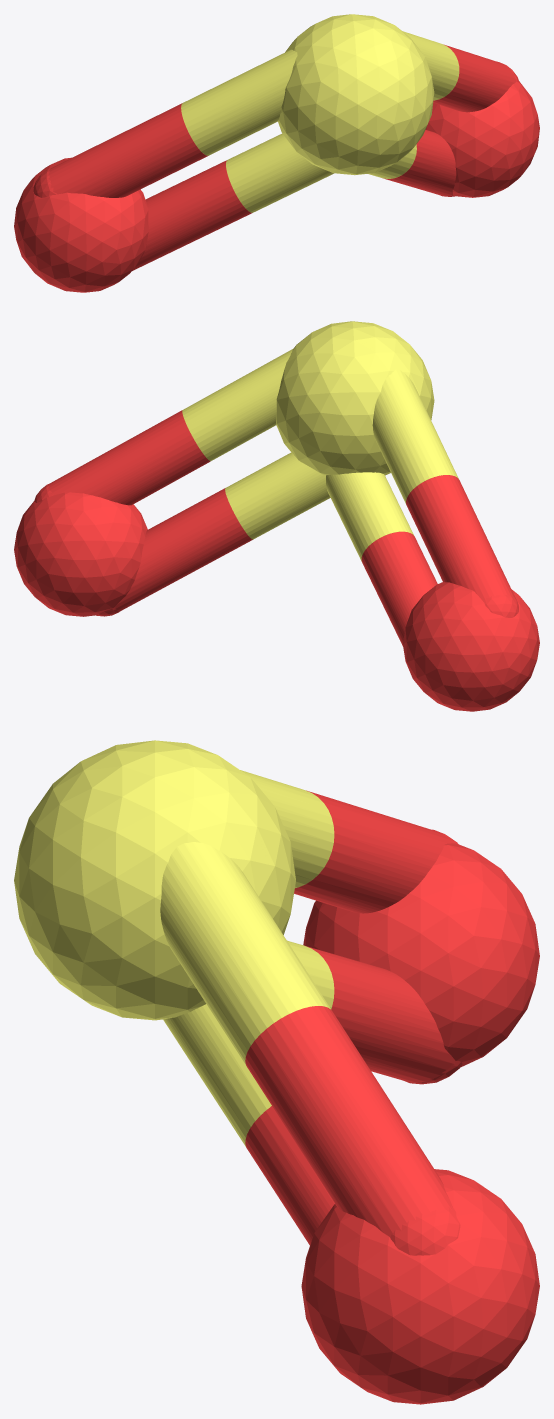
The picture shows the model from 3 angles, top to bottom: view 1: azimuth 30°, elevation 25°; view 2: azimuth 150°, elevation 25°; view 3: azimuth 270°, elevation 25°; orthographic projection. The views are drawn at different scales.
Parts seen in each view (by area): view 1: Shape_IndexedFaceSet, Shape_IndexedFaceSet.001, Shape_IndexedFaceSet.002, Shape_IndexedFaceSet.017, Shape_IndexedFaceSet.015, Shape_IndexedFaceSet.013, Shape_IndexedFaceSet.011, Shape_IndexedFaceSet.005, Shape_IndexedFaceSet.009, Shape_IndexedFaceSet.003, Shape_IndexedFaceSet.007, Shape_IndexedFaceSet.018; view 2: Shape_IndexedFaceSet, Shape_IndexedFaceSet.001, Shape_IndexedFaceSet.002, Shape_IndexedFaceSet.005, Shape_IndexedFaceSet.017, Shape_IndexedFaceSet.009, Shape_IndexedFaceSet.015, Shape_IndexedFaceSet.003, Shape_IndexedFaceSet.007, Shape_IndexedFaceSet.013, Shape_IndexedFaceSet.011, Shape_IndexedFaceSet.018; view 3: Shape_IndexedFaceSet, Shape_IndexedFaceSet.002, Shape_IndexedFaceSet.001, Shape_IndexedFaceSet.005, Shape_IndexedFaceSet.003, Shape_IndexedFaceSet.017, Shape_IndexedFaceSet.013, Shape_IndexedFaceSet.007, Shape_IndexedFaceSet.009, Shape_IndexedFaceSet.015, Shape_IndexedFaceSet.006, Shape_IndexedFaceSet.011.
Part boxes in pixels (box(x1,y1,x2,y2)): Shape_IndexedFaceSet: box(278, 14, 434, 175); Shape_IndexedFaceSet.001: box(14, 157, 148, 292); Shape_IndexedFaceSet.002: box(425, 81, 539, 197); Shape_IndexedFaceSet.017: box(48, 103, 208, 197); Shape_IndexedFaceSet.015: box(181, 49, 297, 155); Shape_IndexedFaceSet.013: box(132, 160, 251, 270); Shape_IndexedFaceSet.011: box(226, 133, 333, 212); Shape_IndexedFaceSet.005: box(433, 44, 516, 112); Shape_IndexedFaceSet.009: box(384, 130, 456, 196); Shape_IndexedFaceSet.003: box(402, 31, 459, 100); Shape_IndexedFaceSet.007: box(368, 144, 416, 178); Shape_IndexedFaceSet.018: box(33, 168, 56, 197); Shape_IndexedFaceSet: box(276, 321, 434, 475); Shape_IndexedFaceSet.001: box(403, 582, 539, 711); Shape_IndexedFaceSet.002: box(14, 492, 147, 616); Shape_IndexedFaceSet.005: box(48, 410, 210, 505); Shape_IndexedFaceSet.017: box(406, 475, 515, 600); Shape_IndexedFaceSet.009: box(115, 488, 252, 611); Shape_IndexedFaceSet.015: box(372, 369, 458, 503); Shape_IndexedFaceSet.003: box(182, 348, 293, 461); Shape_IndexedFaceSet.007: box(225, 452, 330, 539); Shape_IndexedFaceSet.013: box(361, 531, 437, 645); Shape_IndexedFaceSet.011: box(326, 472, 414, 561); Shape_IndexedFaceSet.018: box(482, 594, 518, 617); Shape_IndexedFaceSet: box(14, 740, 295, 1020); Shape_IndexedFaceSet.002: box(301, 1169, 539, 1404); Shape_IndexedFaceSet.001: box(303, 843, 539, 1067); Shape_IndexedFaceSet.005: box(245, 1006, 452, 1237); Shape_IndexedFaceSet.003: box(160, 842, 330, 1064); Shape_IndexedFaceSet.017: box(294, 790, 452, 913); Shape_IndexedFaceSet.013: box(306, 946, 454, 1082); Shape_IndexedFaceSet.007: box(163, 1004, 271, 1146); Shape_IndexedFaceSet.009: box(245, 1106, 334, 1245); Shape_IndexedFaceSet.015: box(240, 770, 334, 887); Shape_IndexedFaceSet.006: box(390, 1206, 460, 1255); Shape_IndexedFaceSet.011: box(287, 940, 334, 1008).
Bounding box in the file's own units: 0.9407 × 0.4854 × 0.4854.
